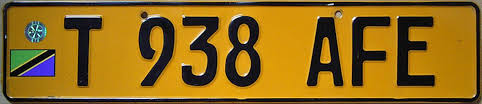T: (58, 9, 109, 91)
